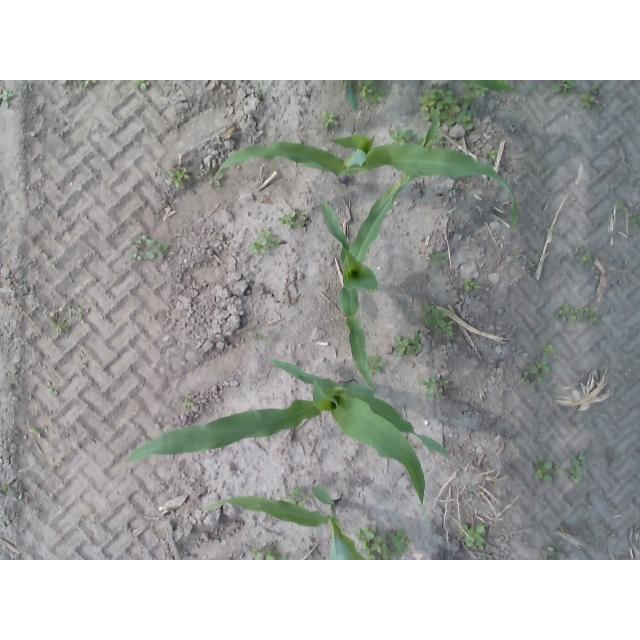Maize: (123, 359, 454, 507), (320, 104, 441, 400), (214, 135, 519, 226), (209, 486, 367, 560), (343, 80, 518, 112)
Weeds: (420, 89, 461, 126), (248, 229, 281, 255), (423, 299, 448, 330), (462, 523, 487, 549), (533, 454, 553, 482), (569, 451, 587, 482), (250, 545, 282, 560), (371, 537, 391, 560), (391, 529, 410, 552), (286, 485, 310, 503), (146, 240, 166, 260), (530, 357, 551, 375), (580, 88, 598, 108), (551, 81, 575, 96), (48, 318, 69, 335), (421, 376, 437, 396), (171, 167, 188, 185), (322, 110, 340, 127), (355, 525, 374, 541), (457, 111, 473, 130), (410, 331, 423, 354), (582, 306, 599, 323), (368, 356, 384, 374), (435, 321, 453, 337), (356, 80, 372, 97), (369, 86, 386, 102), (389, 131, 413, 142), (396, 336, 409, 356), (464, 90, 485, 102), (0, 89, 12, 108), (556, 300, 569, 317), (579, 248, 593, 263), (279, 212, 295, 225), (540, 344, 554, 356), (465, 279, 480, 290), (137, 234, 151, 245), (438, 380, 448, 395), (131, 248, 143, 260), (484, 151, 496, 162), (210, 174, 222, 185), (617, 204, 630, 214), (520, 373, 531, 384), (135, 80, 150, 88), (429, 254, 442, 263), (630, 214, 640, 224), (182, 398, 194, 406), (84, 80, 97, 86), (61, 81, 67, 84)
